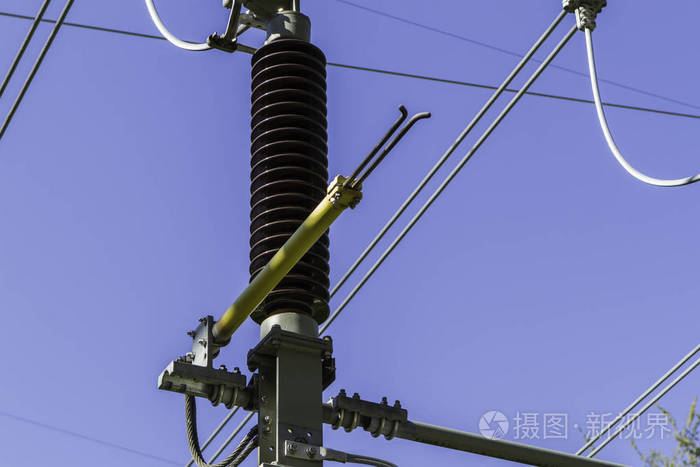insulator: (243, 41, 337, 320)
